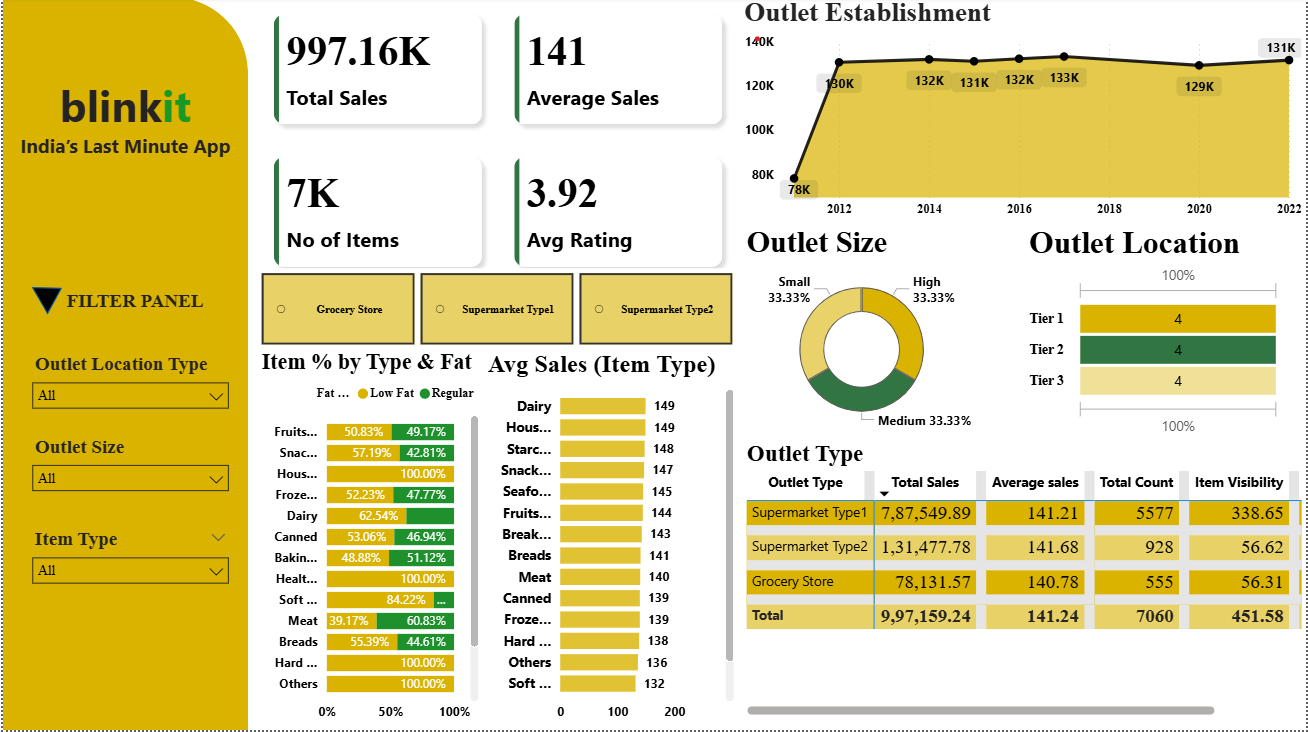

Layout of this report page (visuals, bound fields, positions):
{"tool":"powerbi","page":{"name":"Page 1","canvas":[1280,720],"ordinal":0},"visuals":[{"type":"cardVisual","fields":{"Data":["BlinkIT Grocery Data.Total Sales","Avg(BlinkIT Grocery Data.Sales)","BlinkIT Grocery Data.Total Count","BlinkIT Grocery Data.Avg_rating"]},"box":[248.6,0,474.3,282.9],"z":0},{"type":"lineChart","title":"Outlet Establishment","fields":{"Category":["BlinkIT Grocery Data.Outlet Establishment Year"],"Y":["Sum(BlinkIT Grocery Data.Sales)"]},"box":[723.1,0,556.9,223],"z":1000},{"type":"donutChart","title":" Outlet Size","fields":{"Category":["BlinkIT Grocery Data.Outlet Size"],"Y":["CountNonNull(MatrixGrouped.Group)"]},"box":[725.7,222.9,235.7,212.9],"z":2000},{"type":"funnel","title":"Outlet Location","fields":{"Category":["BlinkIT Grocery Data.Outlet Location Type"],"Y":["CountNonNull(MatrixGrouped.Group)"]},"box":[1002.9,222.9,257.1,212.9],"z":3000},{"type":"pivotTable","title":"Outlet Type","fields":{"Rows":["BlinkIT Grocery Data.Outlet Type"],"Values":["BlinkIT Grocery Data.Total Sales","BlinkIT Grocery Data.Average sales","BlinkIT Grocery Data.Total Count","Sum(BlinkIT Grocery Data.Item Visibility)","BlinkIT Grocery Data.Avg_rating"]},"box":[725.7,435.7,554.3,274.3],"z":4000},{"type":"clusteredBarChart","title":"Avg Sales (Item Type)","fields":{"Category":["BlinkIT Grocery Data.Item Type"],"Y":["BlinkIT Grocery Data.Average sales"]},"box":[471.4,345.7,251.4,374.3],"z":5000},{"type":"hundredPercentStackedBarChart","title":"Item % by Type & Fat","fields":{"Category":["BlinkIT Grocery Data.Item Type"],"Series":["BlinkIT Grocery Data.Item Fat Content"],"Y":["BlinkIT Grocery Data.Total Count"]},"box":[248.6,345.7,222.9,374.3],"z":6000},{"type":"advancedSlicerVisual","fields":{"Values":["BlinkIT Grocery Data.Outlet Type"]},"box":[248.6,265.7,474.3,80],"z":7000},{"type":"shape","title":"Blinkit","box":[0,0,240.5,720.2],"z":8000},{"type":"textbox","box":[8.6,71.2,223.3,152.1],"z":9000},{"type":"textbox","box":[58.2,282.7,173.3,62.5],"z":10000},{"type":"shape","box":[28.4,265.7,29.8,63.9],"z":11000},{"type":"slicer","fields":{"Values":["BlinkIT Grocery Data.Outlet Location Type"]},"box":[18.5,345.2,213.1,81],"z":12000},{"type":"slicer","fields":{"Values":["BlinkIT Grocery Data.Outlet Size"]},"box":[18.5,426.2,213.1,81],"z":13000},{"type":"slicer","fields":{"Values":["BlinkIT Grocery Data.Item Type"]},"box":[18.5,517.1,213.1,81],"z":14000}]}

Visuals, with their boxes in screenshot pixels (x1, y1, x2, y2), scaled from the page's 1280x720 canvas onto the 1308x732 screenshot:
cardVisual - BlinkIT Grocery Data.Total Sales x Avg(BlinkIT Grocery Data.Sales): [x1=254, y1=0, x2=739, y2=288]
"Outlet Establishment" lineChart: [x1=739, y1=0, x2=1307, y2=227]
" Outlet Size" donutChart: [x1=742, y1=227, x2=982, y2=443]
"Outlet Location" funnel: [x1=1025, y1=227, x2=1288, y2=443]
"Outlet Type" pivotTable: [x1=742, y1=443, x2=1307, y2=722]
"Avg Sales (Item Type)" clusteredBarChart: [x1=482, y1=351, x2=739, y2=731]
"Item % by Type & Fat" hundredPercentStackedBarChart: [x1=254, y1=351, x2=482, y2=731]
advancedSlicerVisual - BlinkIT Grocery Data.Outlet Type: [x1=254, y1=270, x2=739, y2=351]
"Blinkit" shape: [x1=0, y1=0, x2=246, y2=731]
textbox: [x1=9, y1=72, x2=237, y2=227]
textbox: [x1=59, y1=287, x2=237, y2=351]
shape: [x1=29, y1=270, x2=59, y2=335]
slicer - BlinkIT Grocery Data.Outlet Location Type: [x1=19, y1=351, x2=237, y2=433]
slicer - BlinkIT Grocery Data.Outlet Size: [x1=19, y1=433, x2=237, y2=516]
slicer - BlinkIT Grocery Data.Item Type: [x1=19, y1=526, x2=237, y2=608]
